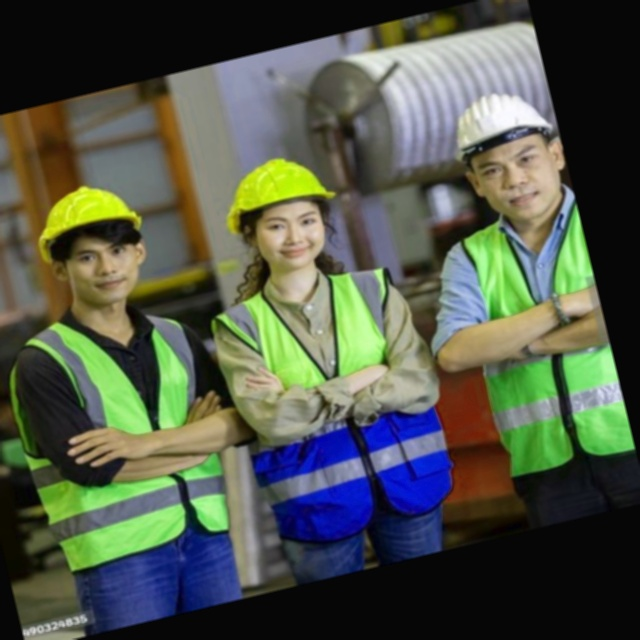Con_Casco: (442, 81, 577, 230), (26, 175, 160, 317), (217, 145, 350, 278)
Con_Chaleco: (211, 253, 474, 547), (0, 293, 245, 576), (430, 195, 635, 484)
